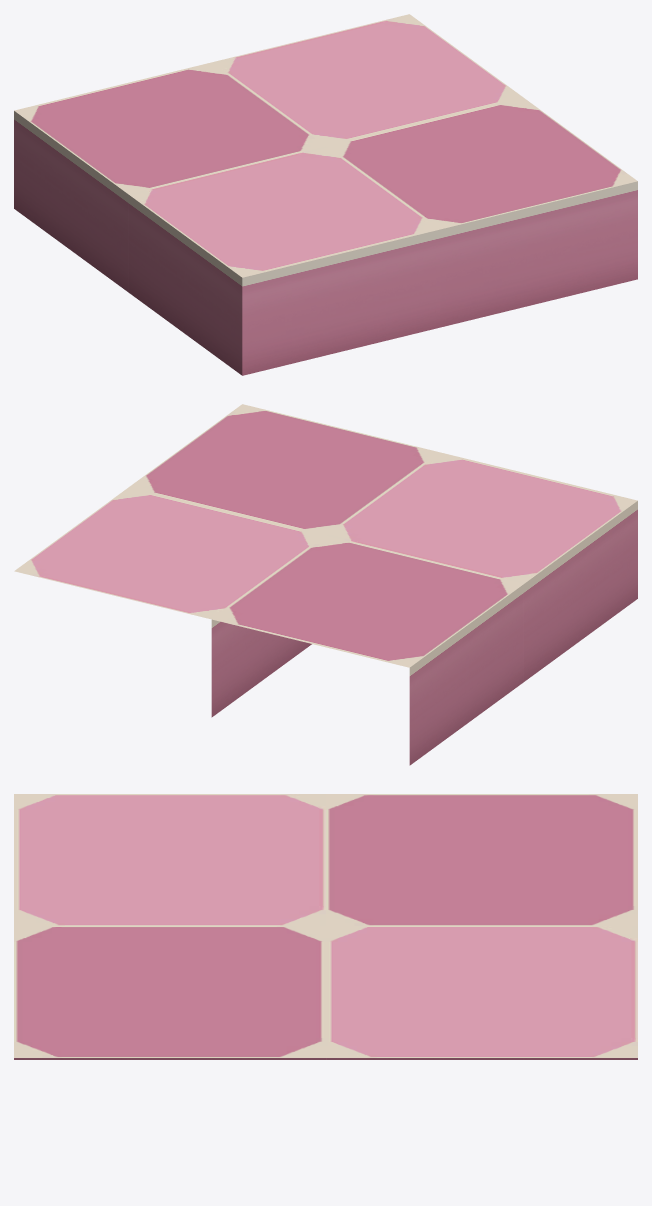
The model's file is my_chocolatecafe_01_p_tile_2x2.glb.
The picture shows the model from 3 angles, top to bottom: view 1: azimuth 30°, elevation 25°; view 2: azimuth 150°, elevation 25°; view 3: azimuth 270°, elevation 25°; orthographic projection. The views are drawn at different scales.
Parts seen in each view (by area): view 1: my_chocolatecafe_01_p_tile_01 (1), my_chocolatecafe_01_p_tile_02 (1), my_chocolatecafe_01_p_tile_02, my_chocolatecafe_01_p_tile_01; view 2: my_chocolatecafe_01_p_tile_01 (1), my_chocolatecafe_01_p_tile_02, my_chocolatecafe_01_p_tile_01, my_chocolatecafe_01_p_tile_02 (1); view 3: my_chocolatecafe_01_p_tile_01, my_chocolatecafe_01_p_tile_02 (1), my_chocolatecafe_01_p_tile_01 (1), my_chocolatecafe_01_p_tile_02.
Boxes of the visible parts, box(x1,y1,x2,y2) form: my_chocolatecafe_01_p_tile_01 (1): box(128, 146, 440, 375); my_chocolatecafe_01_p_tile_02 (1): box(326, 97, 637, 327); my_chocolatecafe_01_p_tile_02: box(14, 62, 325, 291); my_chocolatecafe_01_p_tile_01: box(212, 14, 523, 145); my_chocolatecafe_01_p_tile_01 (1): box(326, 452, 637, 681); my_chocolatecafe_01_p_tile_02: box(212, 536, 523, 765); my_chocolatecafe_01_p_tile_01: box(14, 487, 325, 717); my_chocolatecafe_01_p_tile_02 (1): box(128, 404, 439, 535); my_chocolatecafe_01_p_tile_01: box(326, 926, 637, 1059); my_chocolatecafe_01_p_tile_02 (1): box(14, 926, 325, 1059); my_chocolatecafe_01_p_tile_01 (1): box(14, 794, 325, 925); my_chocolatecafe_01_p_tile_02: box(326, 794, 637, 925).
Size of the model in its own units: 0.012 by 0.00284 by 0.012.
1 material, 1 textured.
